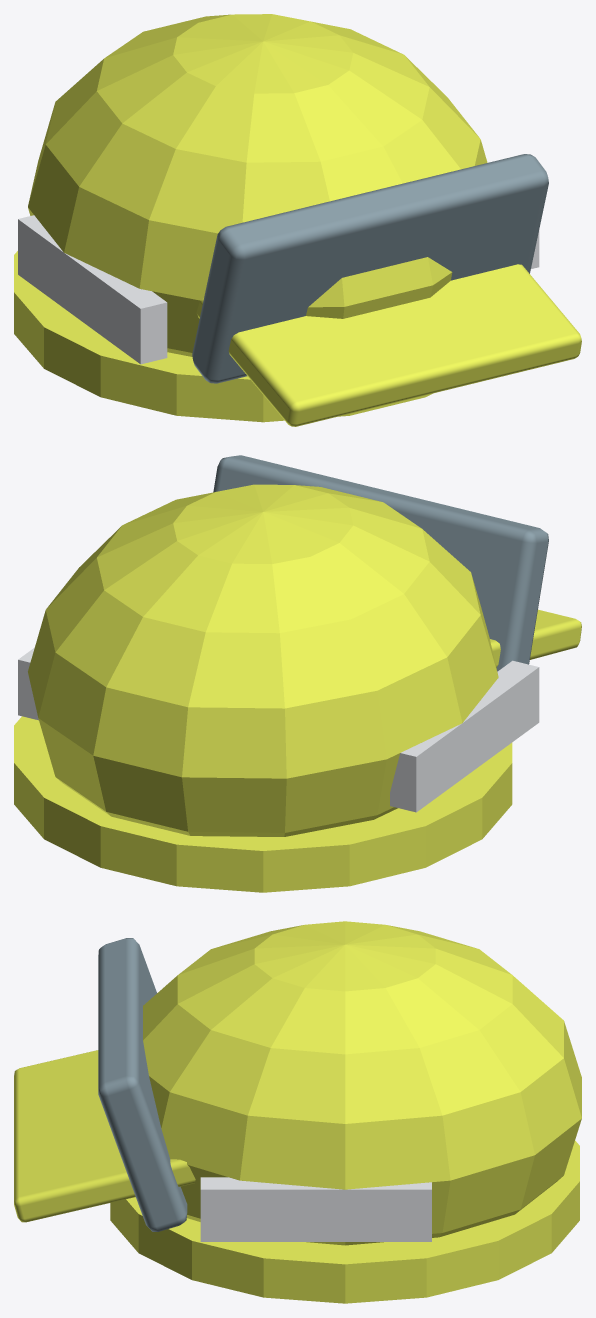
The model's file is fire-and-emergency-services-fire-helmet-3e9ba3af__29914.glb.
The picture shows the model from 3 angles, top to bottom: view 1: azimuth 30°, elevation 25°; view 2: azimuth 150°, elevation 25°; view 3: azimuth 270°, elevation 25°; orthographic projection. The views are drawn at different scales.
Visible parts, largest first — view 1: fire-helmet; view 2: fire-helmet; view 3: fire-helmet.
Boxes of the visible parts, x1,y1,x2,y2 form: fire-helmet: (14,14,581,426); fire-helmet: (14,455,581,892); fire-helmet: (14,921,581,1303).
Size of the model in its own units: 0.33 by 0.234 by 0.3928.
